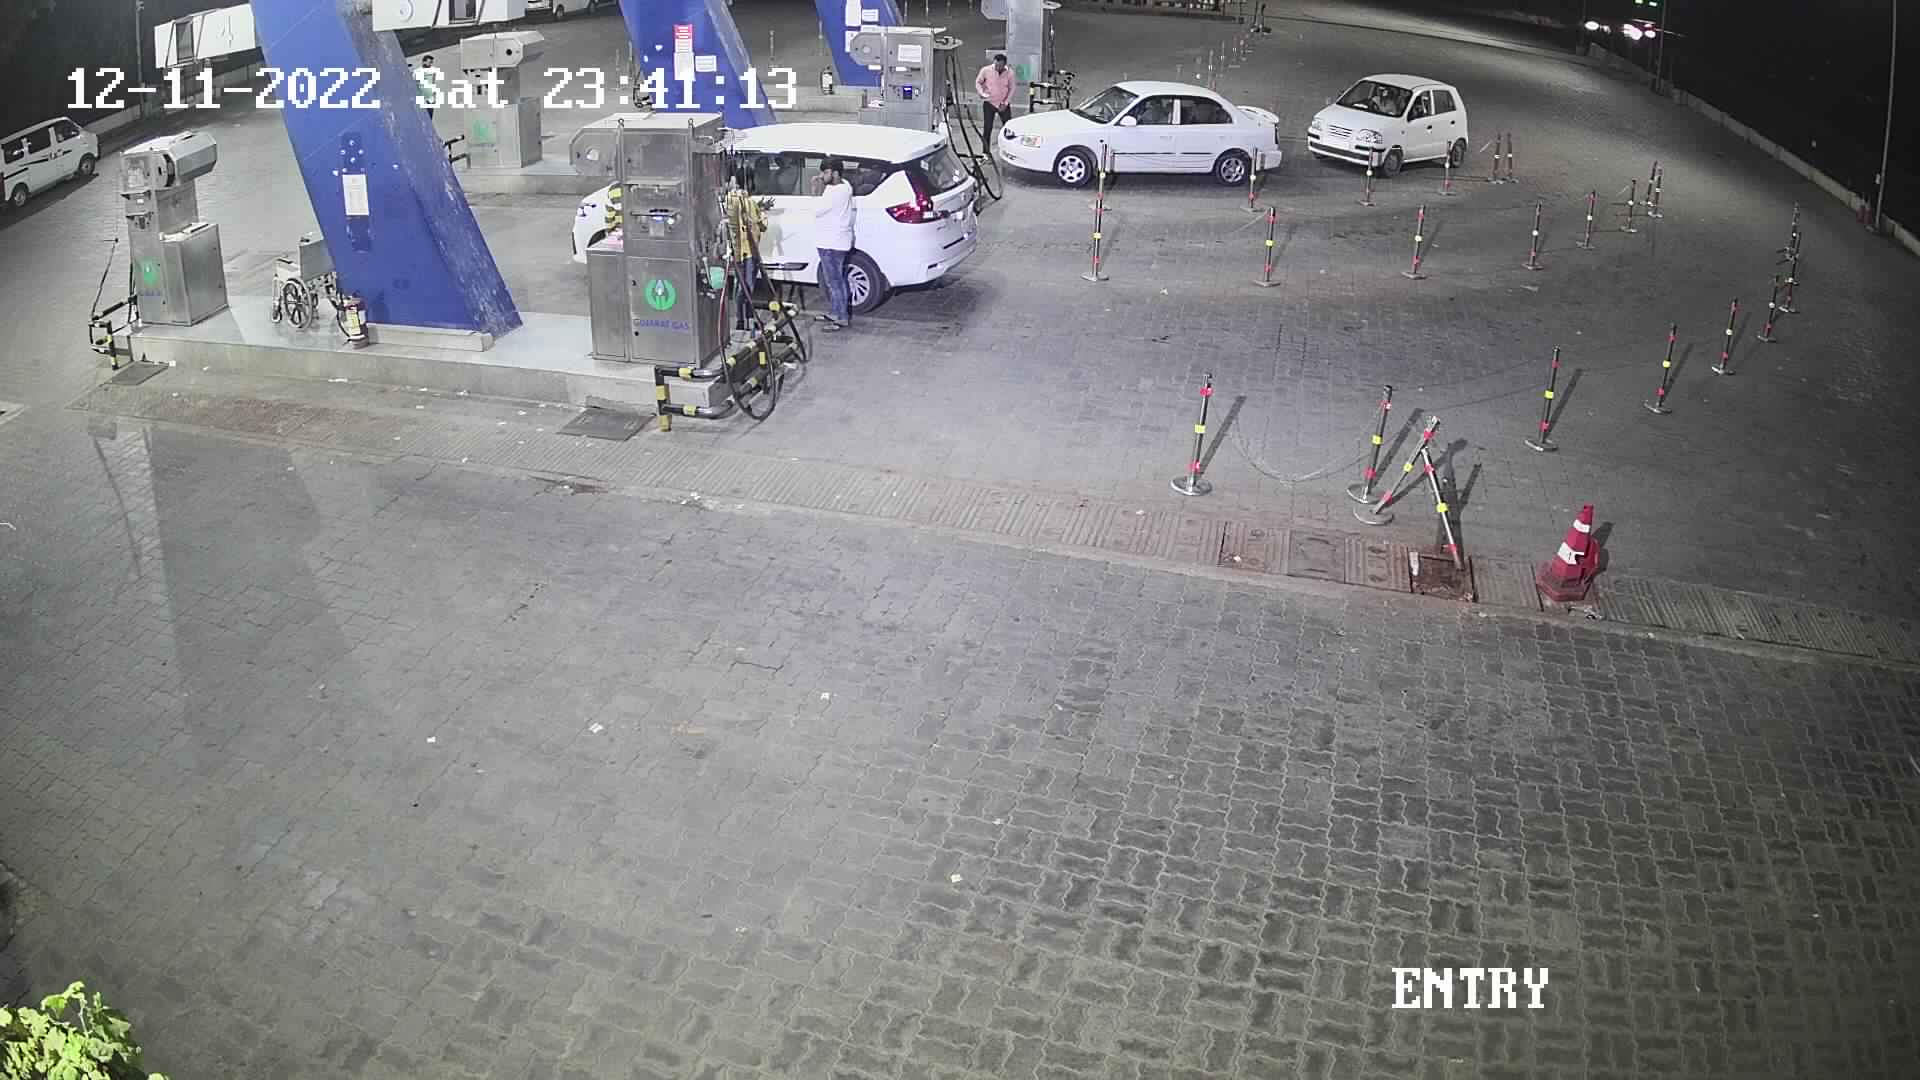Car: (708, 111, 982, 320), (988, 74, 1286, 194), (1292, 65, 1476, 185), (1, 99, 111, 222)
